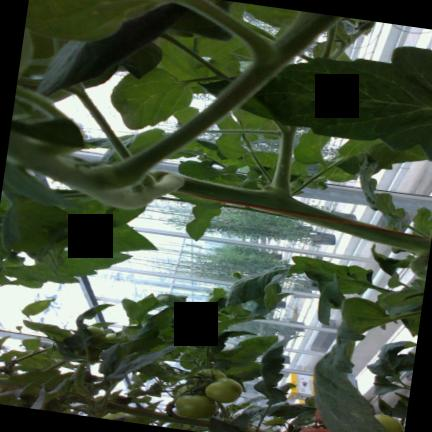6kp_peduncle: (154, 396, 192, 423)
6kp_petiole: (201, 136, 333, 226)
MainStem: (175, 176, 430, 254), (107, 400, 209, 426)
tomato: (175, 394, 216, 417), (205, 377, 241, 402), (373, 413, 402, 432), (189, 367, 226, 380), (174, 383, 203, 397), (299, 426, 329, 432), (86, 325, 103, 334), (314, 409, 322, 423), (105, 332, 115, 340)
